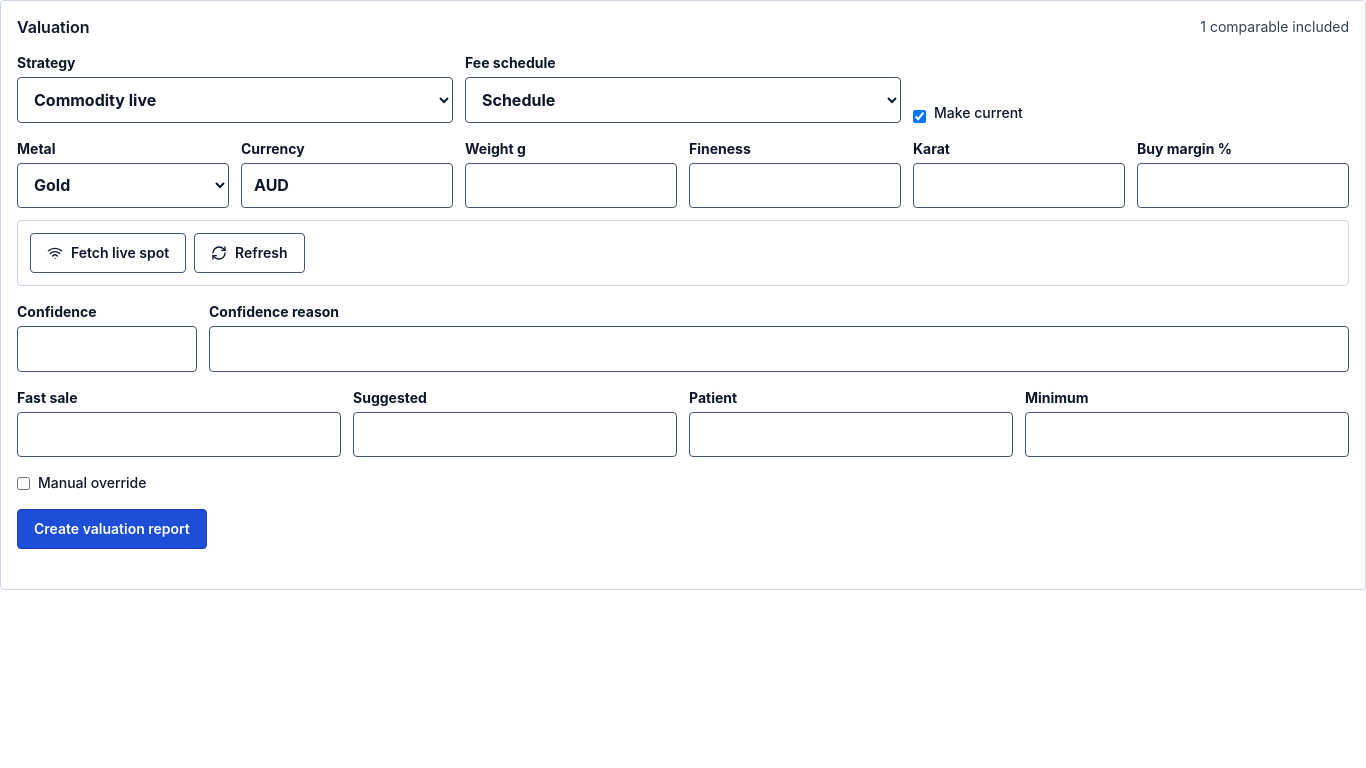
Test: ValuationPanel exposes manual spot entry when live spot is unavailable
This screenshot has width=1366, height=768.
Click the button "Fetch live spot": (108, 253) x1=30 y1=233 x2=186 y2=273
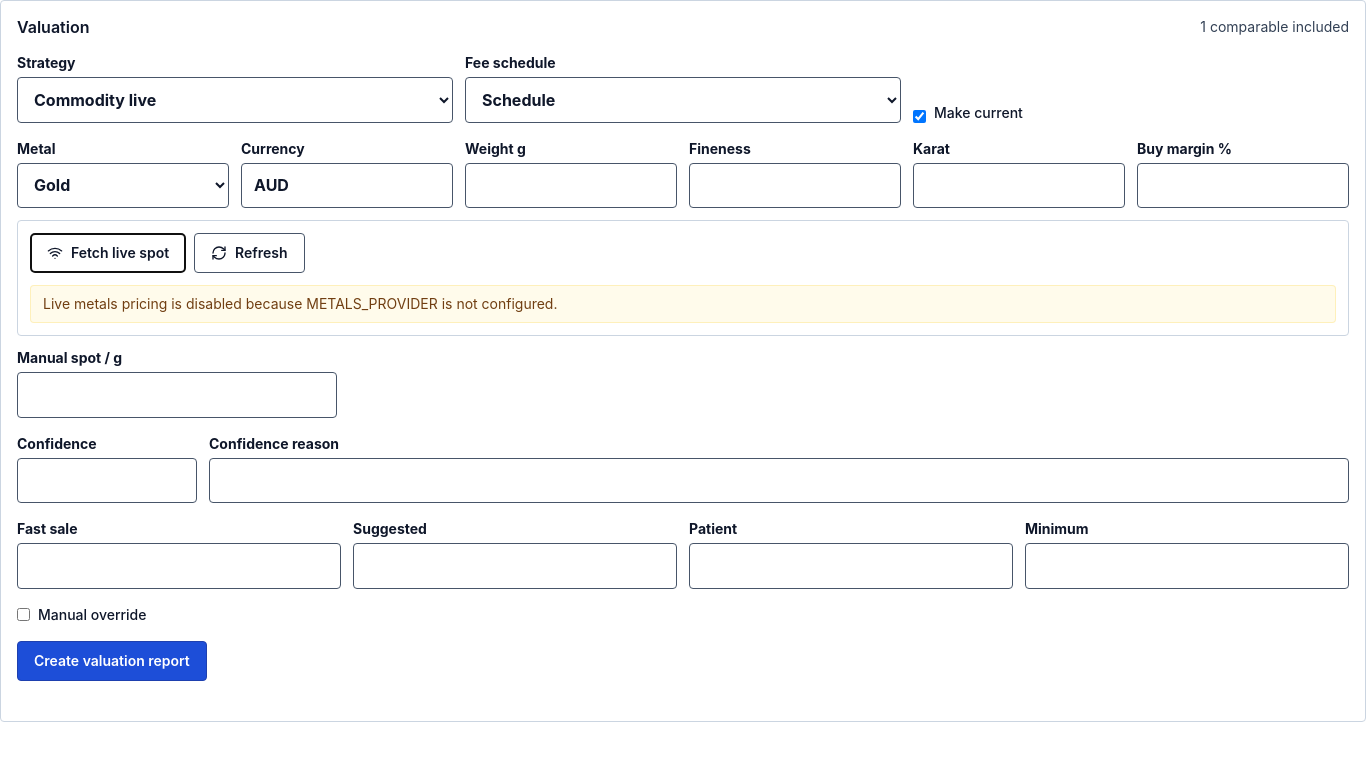
Expected: the text "METALS_PROVIDER is not configured" is shown, x1=43 y1=295 x2=558 y2=312
Expected: the field labelled "Manual spot / g" is shown, x1=17 y1=372 x2=337 y2=418
